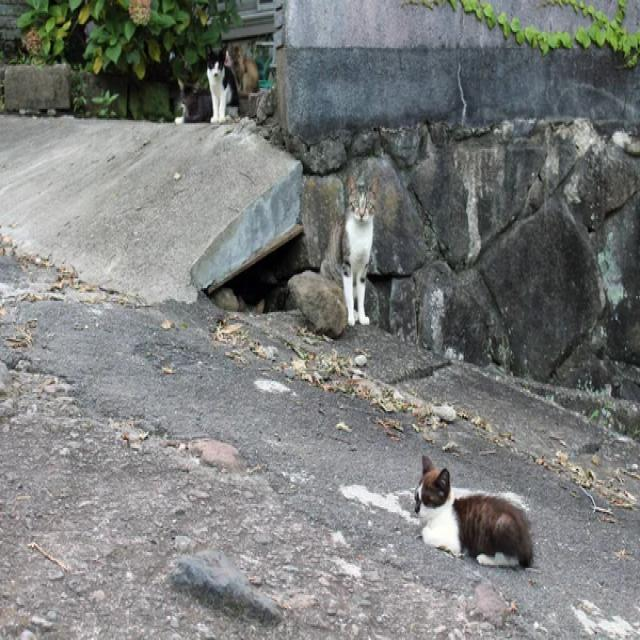cat: (415, 456, 532, 566), (320, 174, 379, 325), (209, 49, 238, 123), (229, 45, 259, 97), (179, 79, 211, 123)
